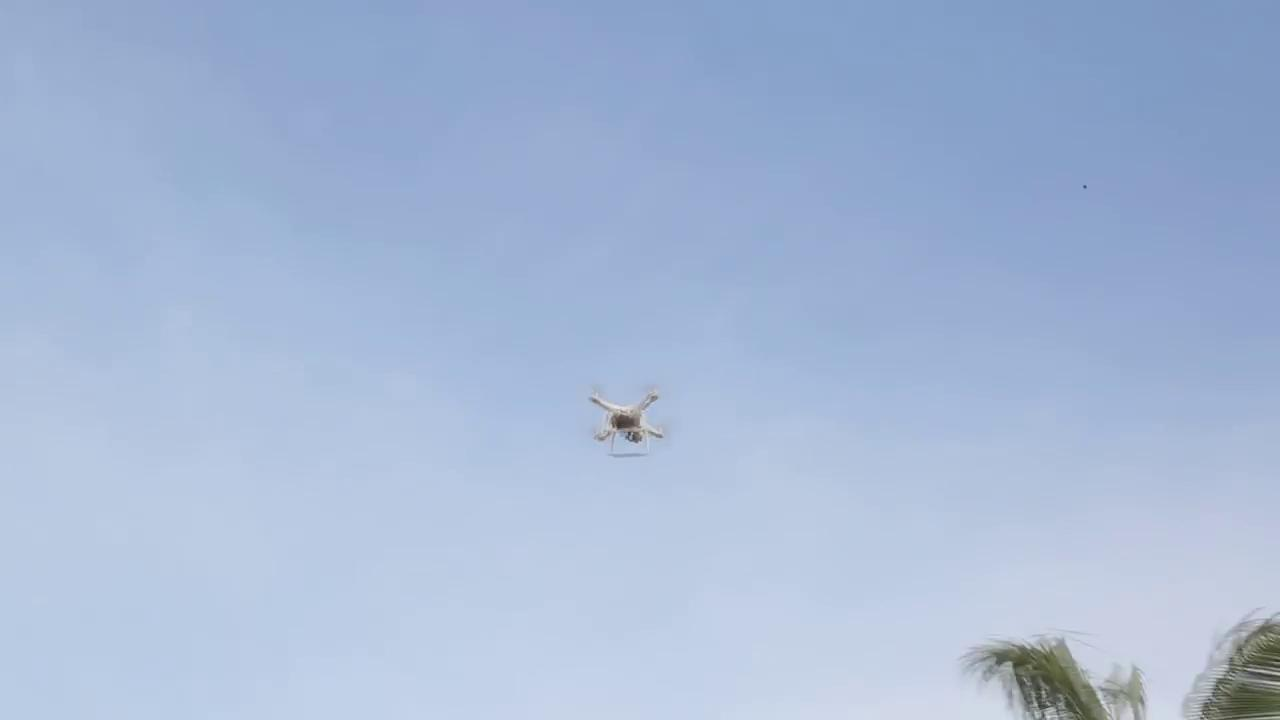drone: (586, 378, 676, 454)
